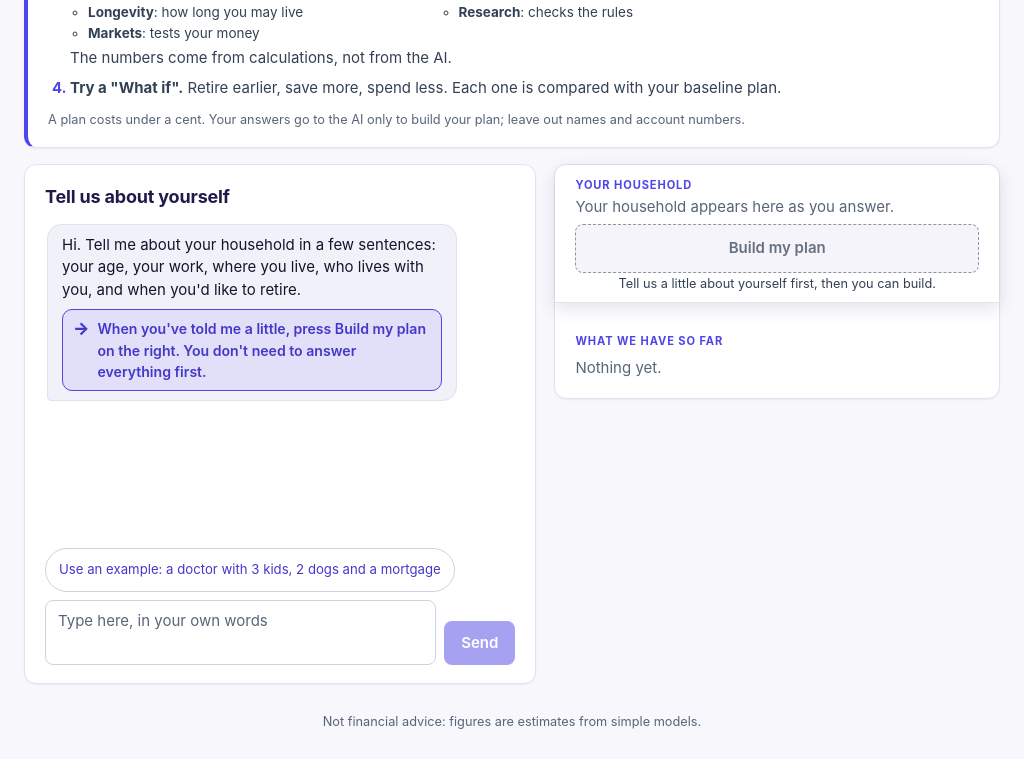
Scenario: R3. One place to type per page › GAP R3: the first page has one place to type, and still one when a figure's editor is open
(page scrolled)
Click the button "Use an example: a doctor with 3 kids, 2 dogs and a mortgage": (250, 570) x1=45 y1=548 x2=455 y2=592
(page scrolled)
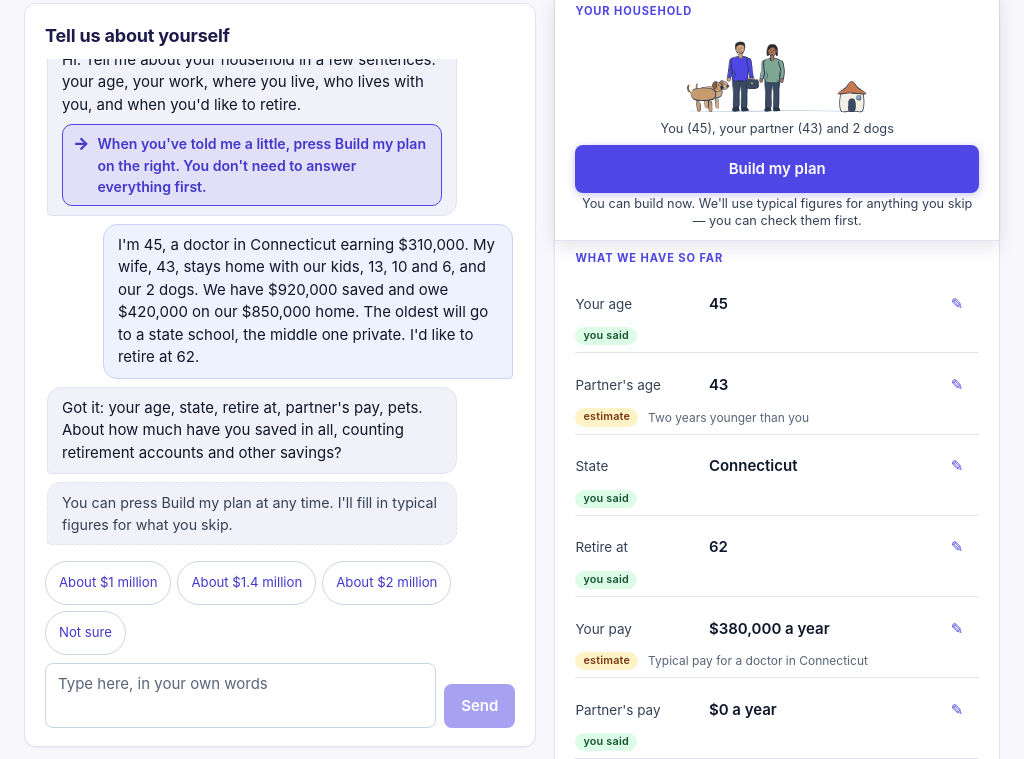
Click the button "About $1.4 million": (247, 583) x1=178 y1=561 x2=316 y2=605
(page scrolled)
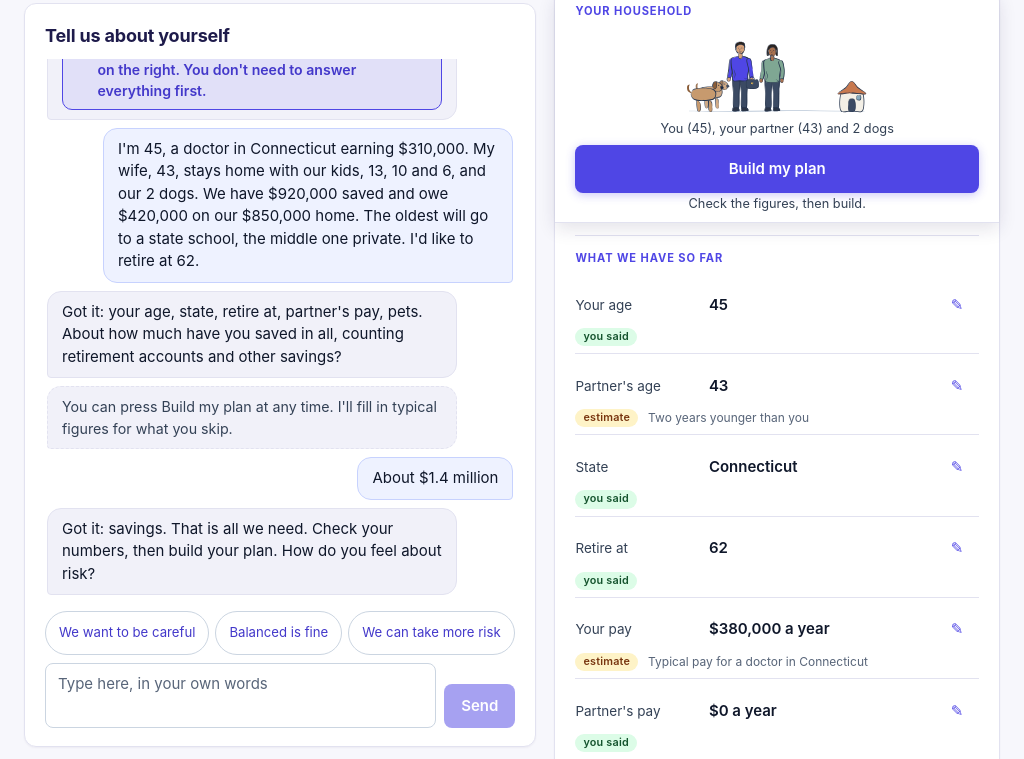
Expected: the 1st button "✎" is shown
Click the 1st button "✎": (957, 304) x1=935 y1=282 x2=979 y2=326
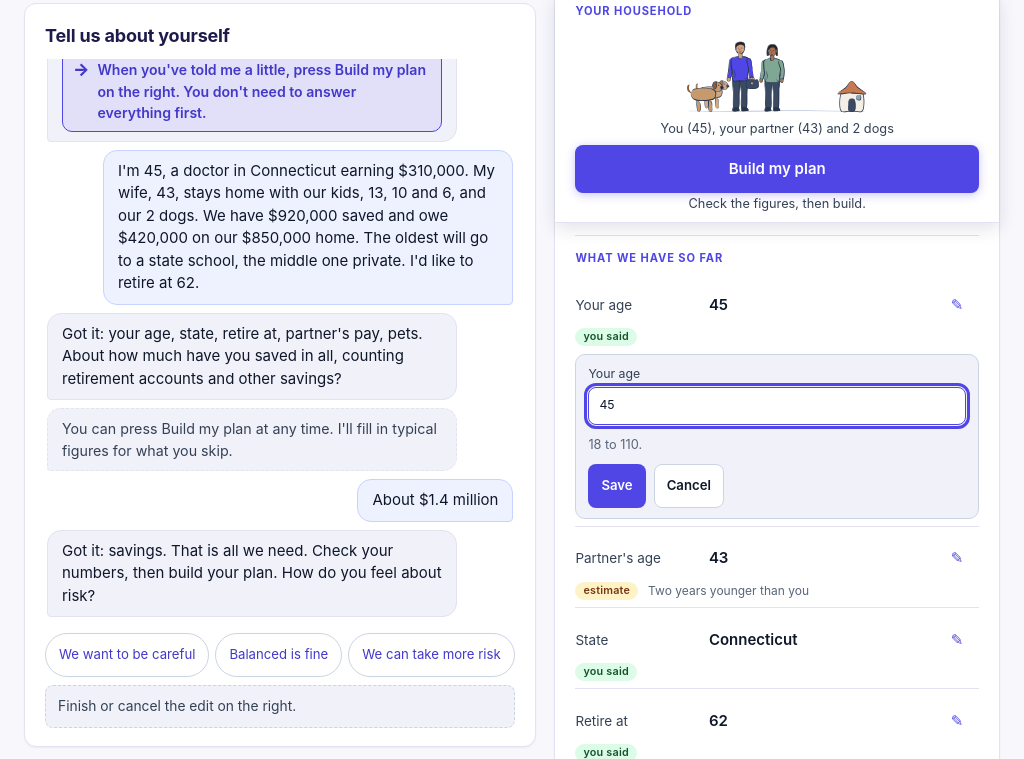
Expected: the form with class "editor" is shown, x1=575 y1=354 x2=979 y2=519
